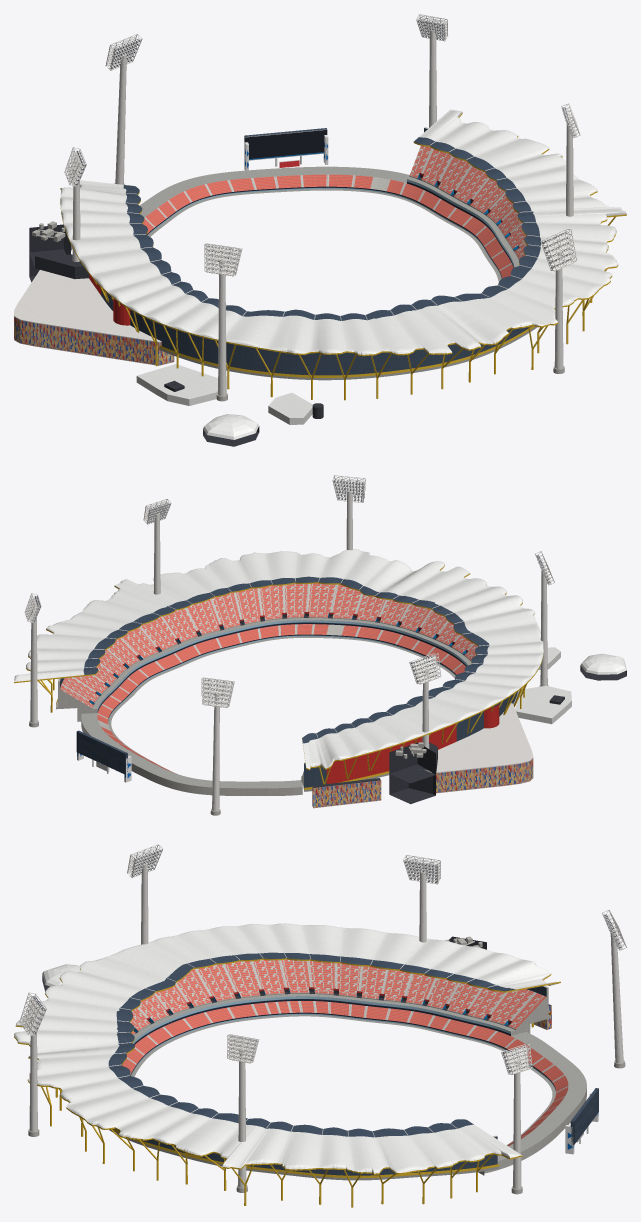
3 views of the same model, one above another, from view 1: azimuth 30°, elevation 25°; view 2: azimuth 150°, elevation 25°; view 3: azimuth 270°, elevation 25° (orthographic). The views are drawn at different scales.
Parts seen in each view (by area): view 1: PeopleFirstStadium; view 2: PeopleFirstStadium; view 3: PeopleFirstStadium.
Boxes of the visible parts, x1=… form: PeopleFirstStadium: x1=14, y1=14, x2=626, y2=446; PeopleFirstStadium: x1=14, y1=475, x2=626, y2=815; PeopleFirstStadium: x1=14, y1=844, x2=626, y2=1207.
Bounding box in the file's own units: 255 × 68.89 × 249.
Materials: 23 (22 with a texture image).
